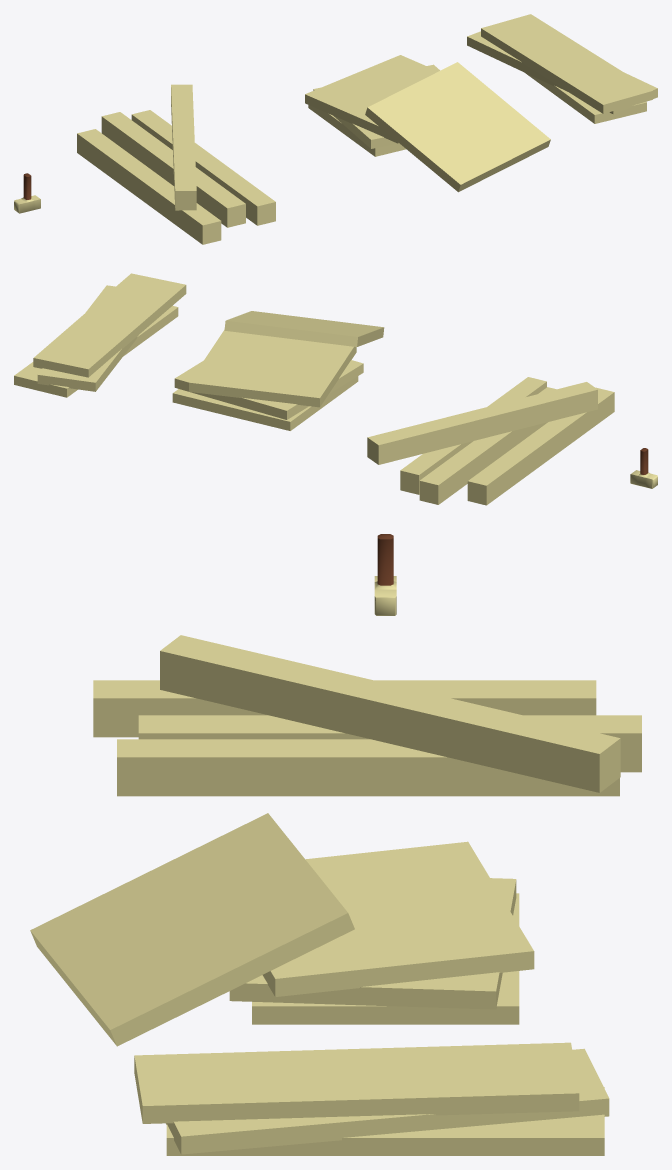
The model's file is brückenteile.fbx.
3 renders of one model, top to bottom at view 1: azimuth 30°, elevation 25°; view 2: azimuth 150°, elevation 25°; view 3: azimuth 270°, elevation 25°, orthographic. The views are drawn at different scales.
Visible parts, largest first — view 1: brücke trümmer platten, brücken Trümmer balken, brücke trümmer platten lang, HAMMER; view 2: brücken Trümmer balken, brücke trümmer platten, brücke trümmer platten lang, HAMMER; view 3: brücke trümmer platten, brücken Trümmer balken, brücke trümmer platten lang, HAMMER.
Boxes of the visible parts, left/top/right/bottom form: brücke trümmer platten: left=305, top=55, right=550, bottom=192; brücken Trümmer balken: left=77, top=84, right=275, bottom=244; brücke trümmer platten lang: left=467, top=14, right=657, bottom=123; HAMMER: left=14, top=173, right=40, bottom=213; brücken Trümmer balken: left=367, top=377, right=614, bottom=505; brücke trümmer platten: left=172, top=311, right=384, bottom=430; brücke trümmer platten lang: left=14, top=273, right=186, bottom=397; HAMMER: left=630, top=448, right=657, bottom=488; brücke trümmer platten: left=30, top=813, right=534, bottom=1046; brücken Trümmer balken: left=93, top=635, right=641, bottom=796; brücke trümmer platten lang: left=134, top=1042, right=609, bottom=1155; HAMMER: left=374, top=534, right=396, bottom=615.
Bounding box in the file's own units: 3188 × 302 × 1429.
